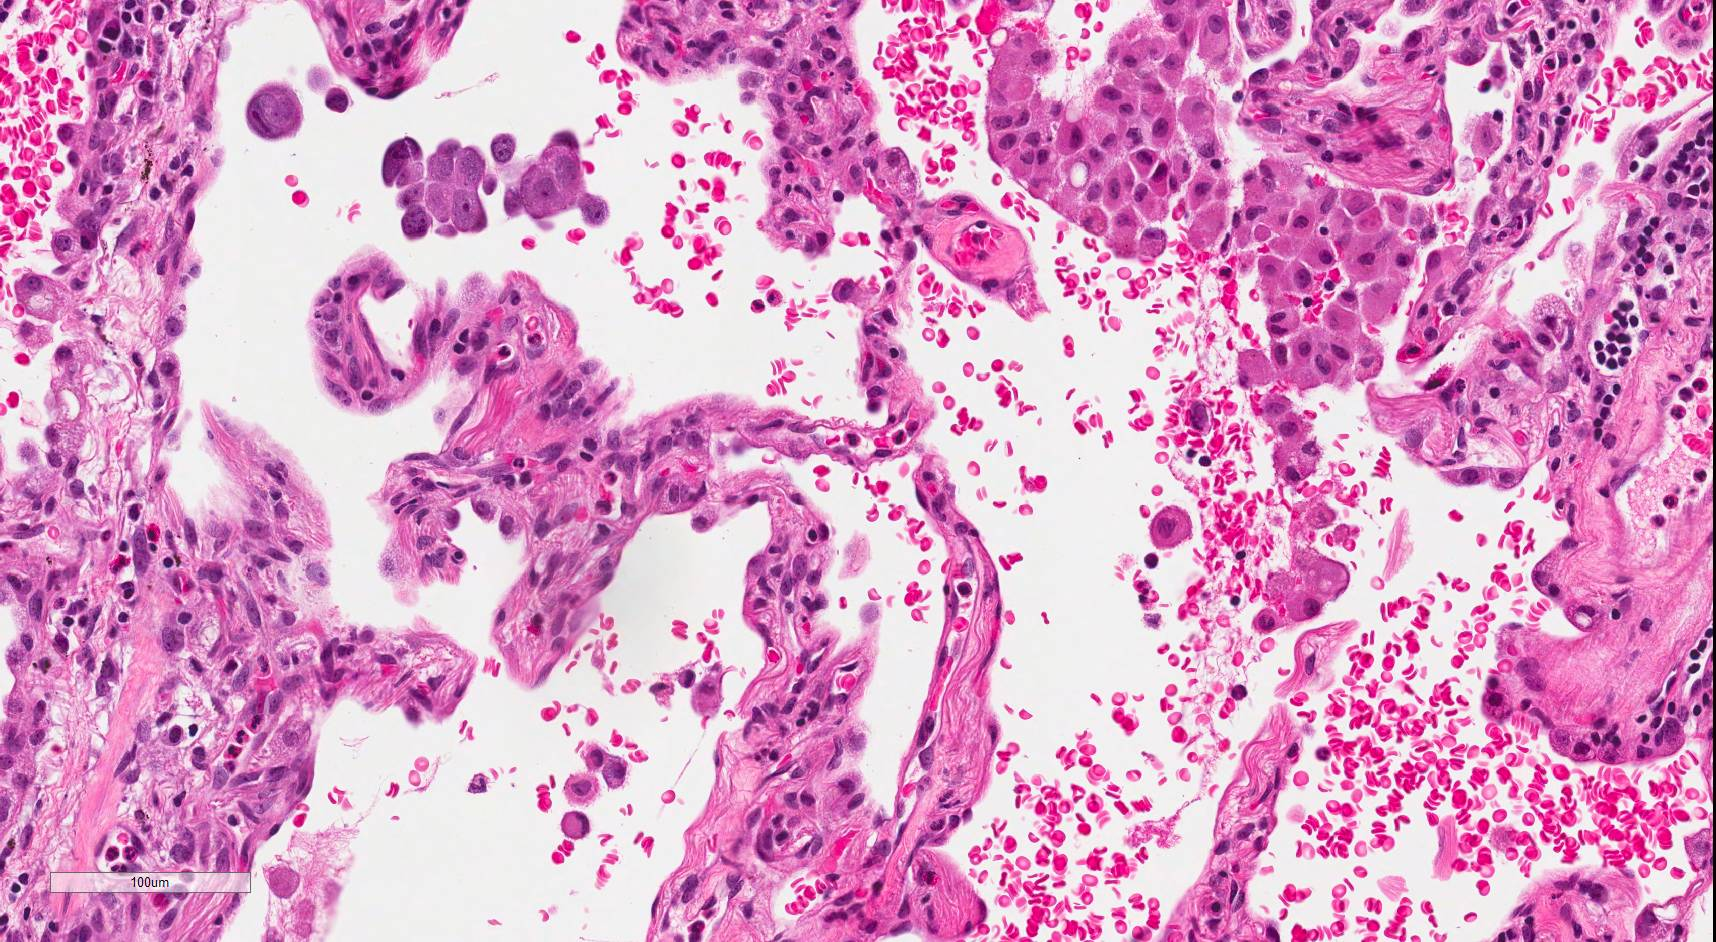stas: (378, 131, 607, 243), (244, 83, 303, 143)
